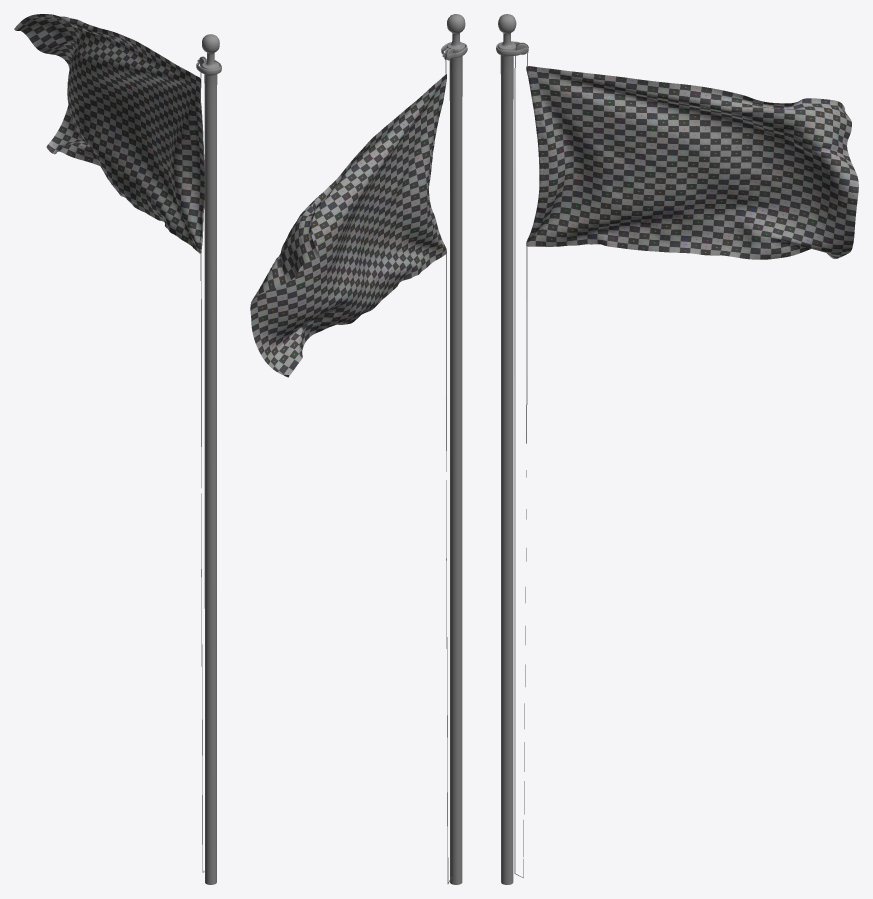
The model's file is flag.glb.
3 views of the same model, side by side, from view 1: azimuth 30°, elevation 25°; view 2: azimuth 150°, elevation 25°; view 3: azimuth 270°, elevation 25° (orthographic). The views are drawn at different scales.
Parts seen in each view (by area): view 1: Flaga.002; view 2: Flaga.002; view 3: Flaga.002.
Part boxes in pixels (x1,y1,x2,y2): Flaga.002: (14, 14, 221, 884); Flaga.002: (250, 14, 467, 884); Flaga.002: (496, 14, 858, 884).
Bounding box in the file's own units: 1.1 × 14.34 × 5.43.
Materials: 3 (1 with a texture image).
